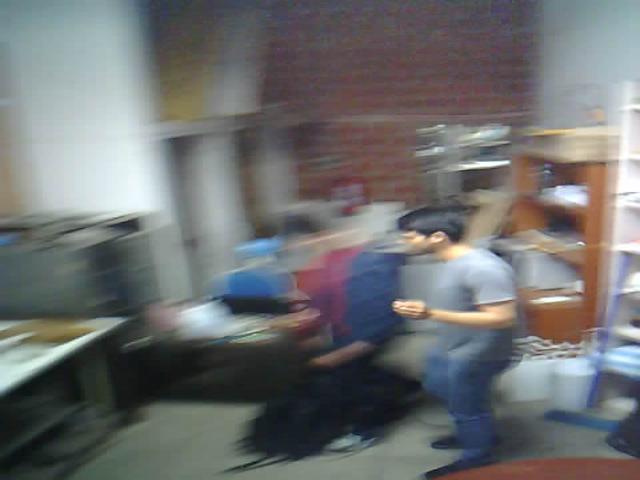person: (390, 188, 546, 480), (254, 189, 390, 463)
